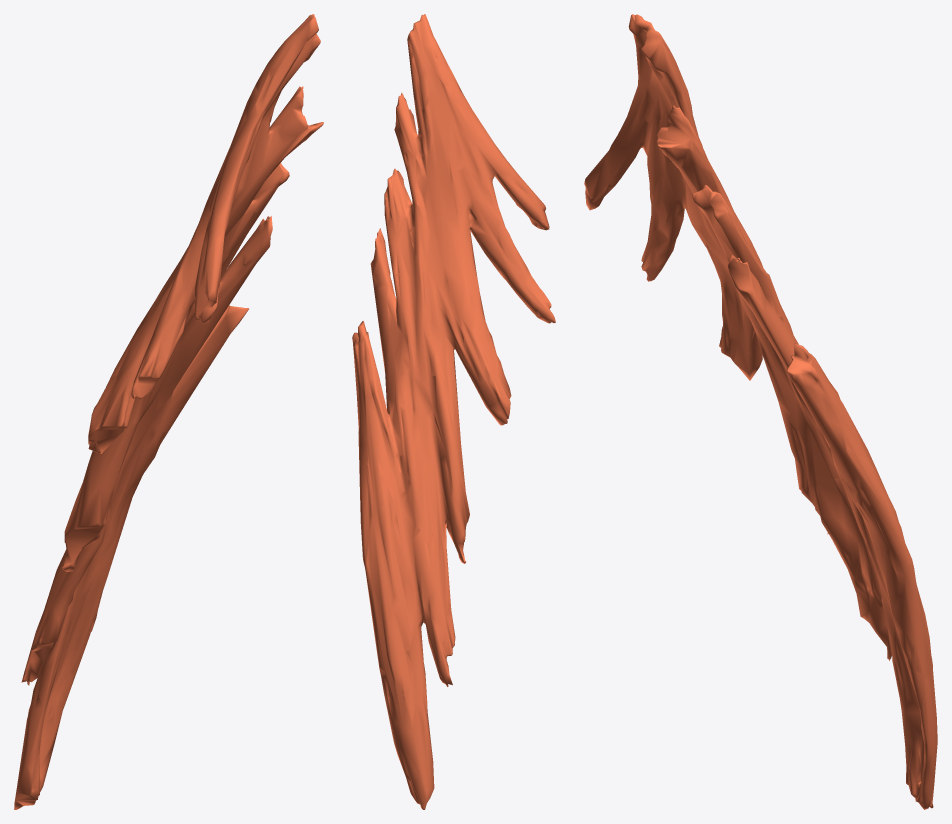
File: Semispinalis_colli_muscle.r_Generated_Mesh_From_X3D.227.glb
3 renders of one model, left to right at view 1: azimuth 30°, elevation 25°; view 2: azimuth 150°, elevation 25°; view 3: azimuth 270°, elevation 25°, orthographic. The views are drawn at different scales.
Parts seen in each view (by area): view 1: Semispinalis_colli_muscle.r_Generated_Mesh_From_X3D.227; view 2: Semispinalis_colli_muscle.r_Generated_Mesh_From_X3D.227; view 3: Semispinalis_colli_muscle.r_Generated_Mesh_From_X3D.227.
Part boxes in pixels (box(x1,y1,x2,y2)): Semispinalis_colli_muscle.r_Generated_Mesh_From_X3D.227: box(14, 14, 323, 809); Semispinalis_colli_muscle.r_Generated_Mesh_From_X3D.227: box(352, 14, 555, 809); Semispinalis_colli_muscle.r_Generated_Mesh_From_X3D.227: box(584, 14, 937, 809).
Bounding box in the file's own units: 0.0339 × 0.1424 × 0.0527.
